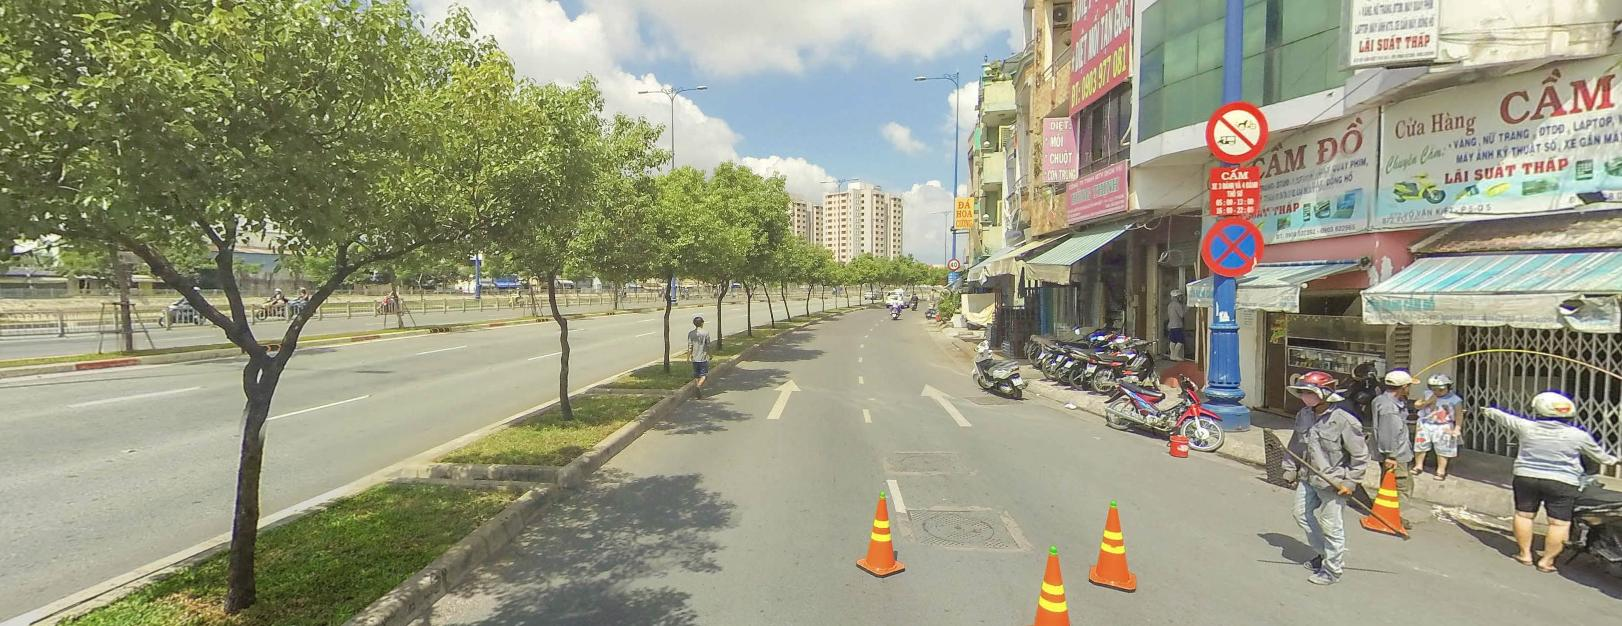Cam con lai: (1200, 100, 1272, 162)
Cam dung va do: (1197, 213, 1266, 279)
Gioi han toc do: (947, 256, 961, 270)
